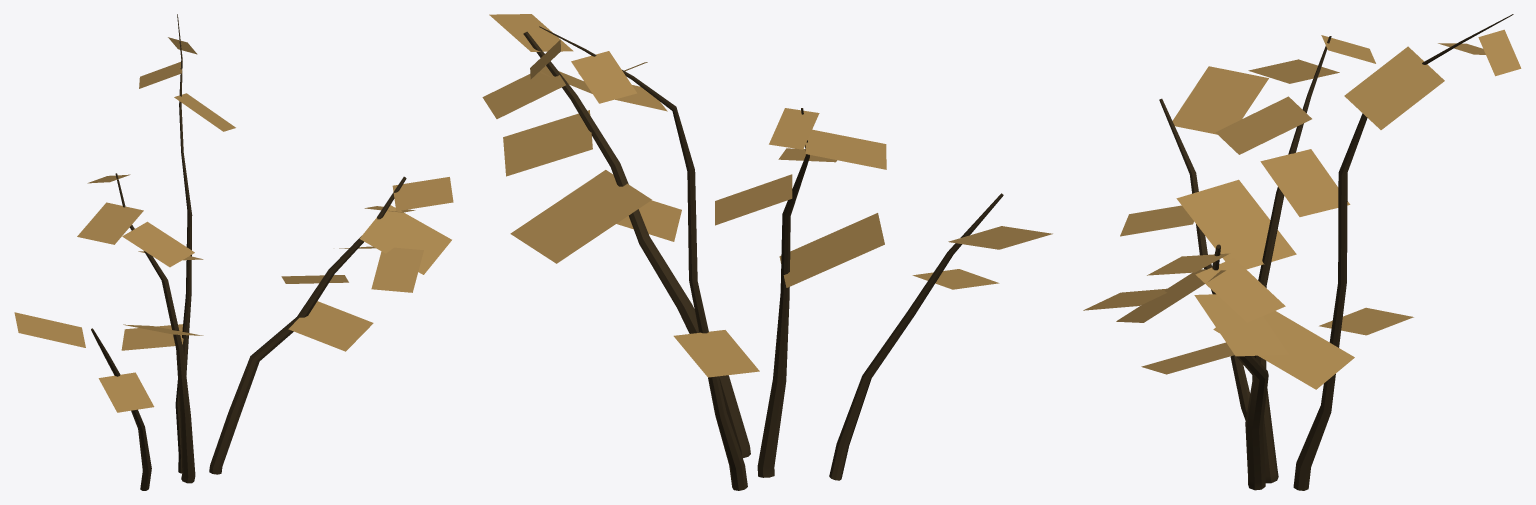
The model's file is Bush small LOD 0.fbx.
3 renders of one model, left to right at view 1: azimuth 30°, elevation 25°; view 2: azimuth 150°, elevation 25°; view 3: azimuth 270°, elevation 25°, orthographic. The views are drawn at different scales.
Parts seen in each view (by area): view 1: Bush_small_LOD_0; view 2: Bush_small_LOD_0; view 3: Bush_small_LOD_0.
Part boxes in pixels (x1,y1,x2,y2): Bush_small_LOD_0: [14, 14, 453, 490]; Bush_small_LOD_0: [482, 14, 1052, 490]; Bush_small_LOD_0: [1083, 14, 1521, 490].
Size of the model in its own units: 3.19 by 2.74 by 2.09.
